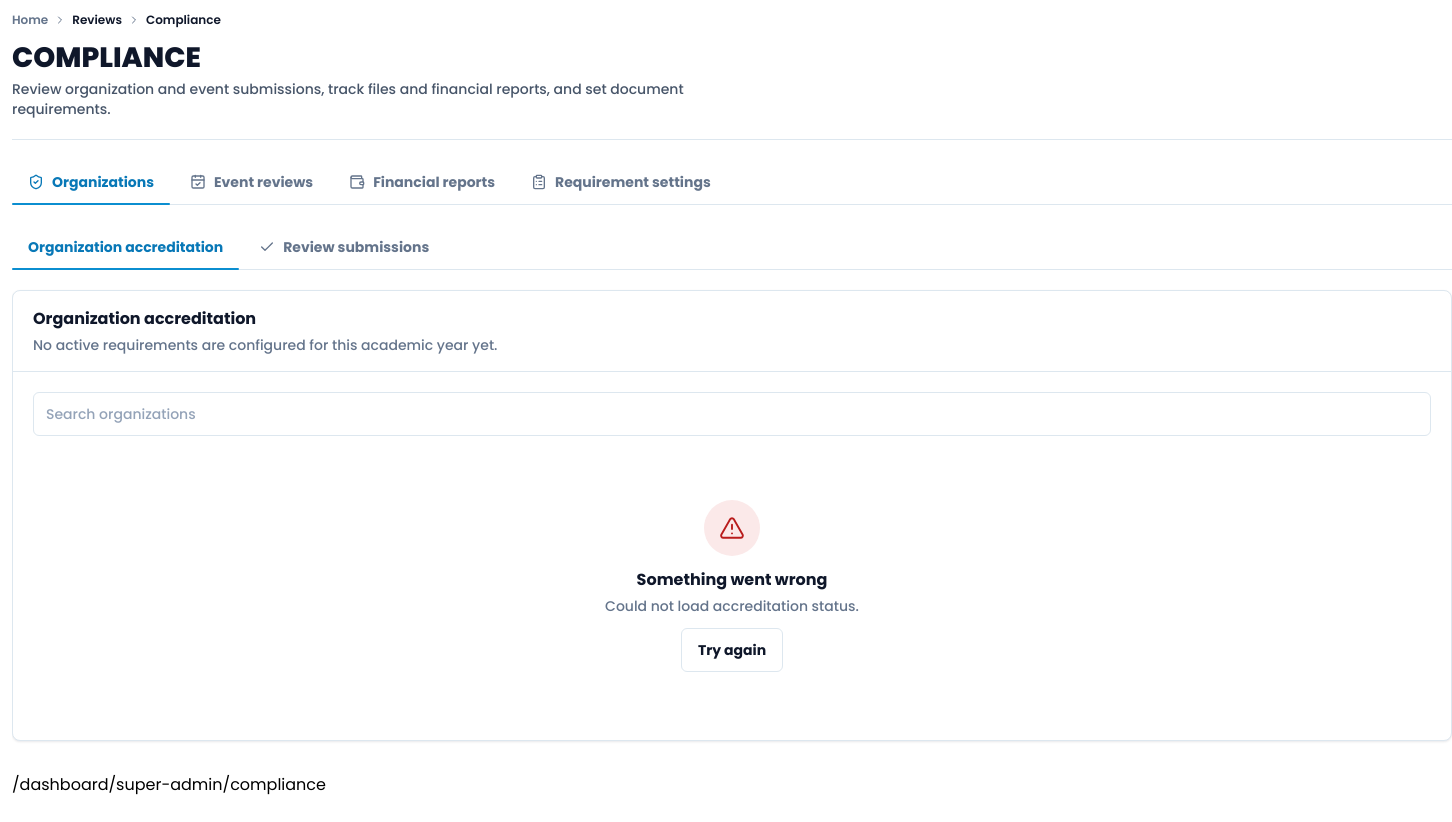
Test: SaoCompliancePage › shows an accreditation error and retries
Expected: the text "Could not load accreditation status." is shown, [605,596,859,616]
Click the button "Try again": (732, 650) [681,628,783,672]
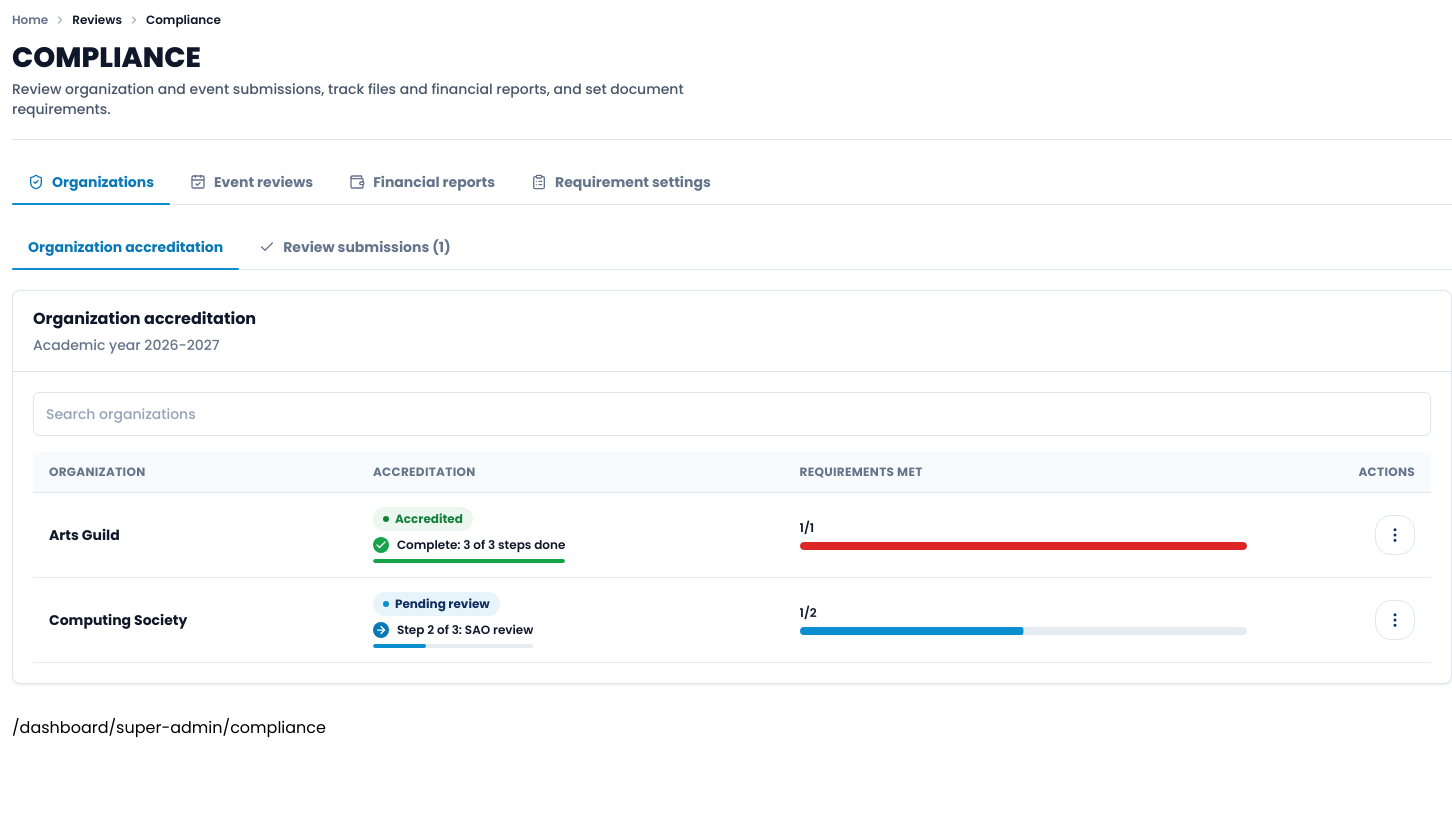
Now the text "Computing Society" is shown, box [49,610,187,630]
